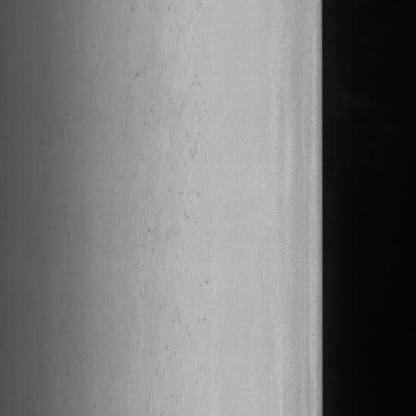silk_spot: (104, 15, 210, 322)
